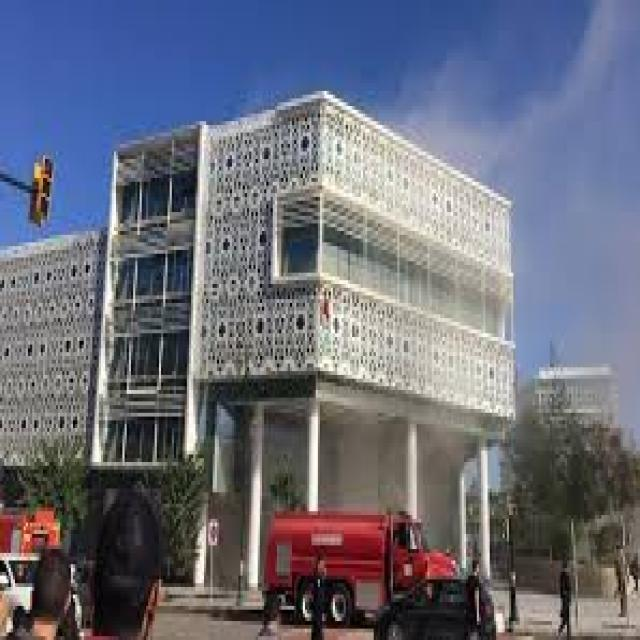pompier: (262, 504, 457, 610)
